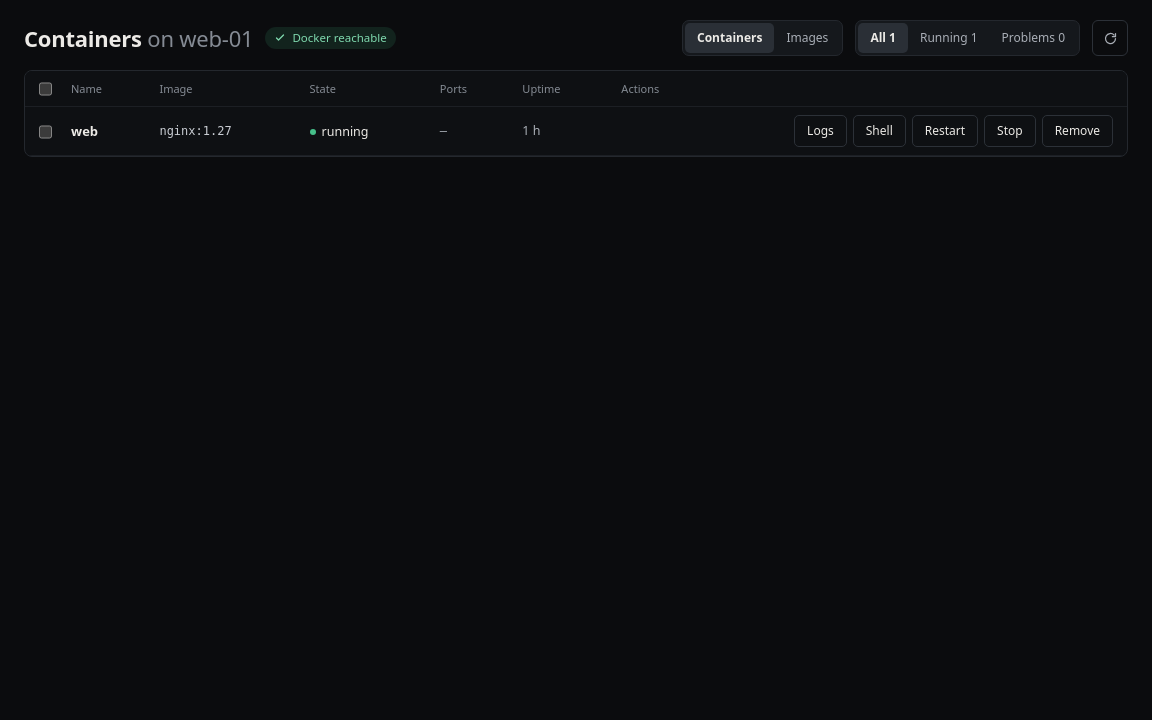
Test case: Docker images › shows why an image cannot be removed
Expected: the text "Docker reachable" is shown, [266,27,396,49]
Click the button "Images" at (807, 38), box [774,23,840,53]
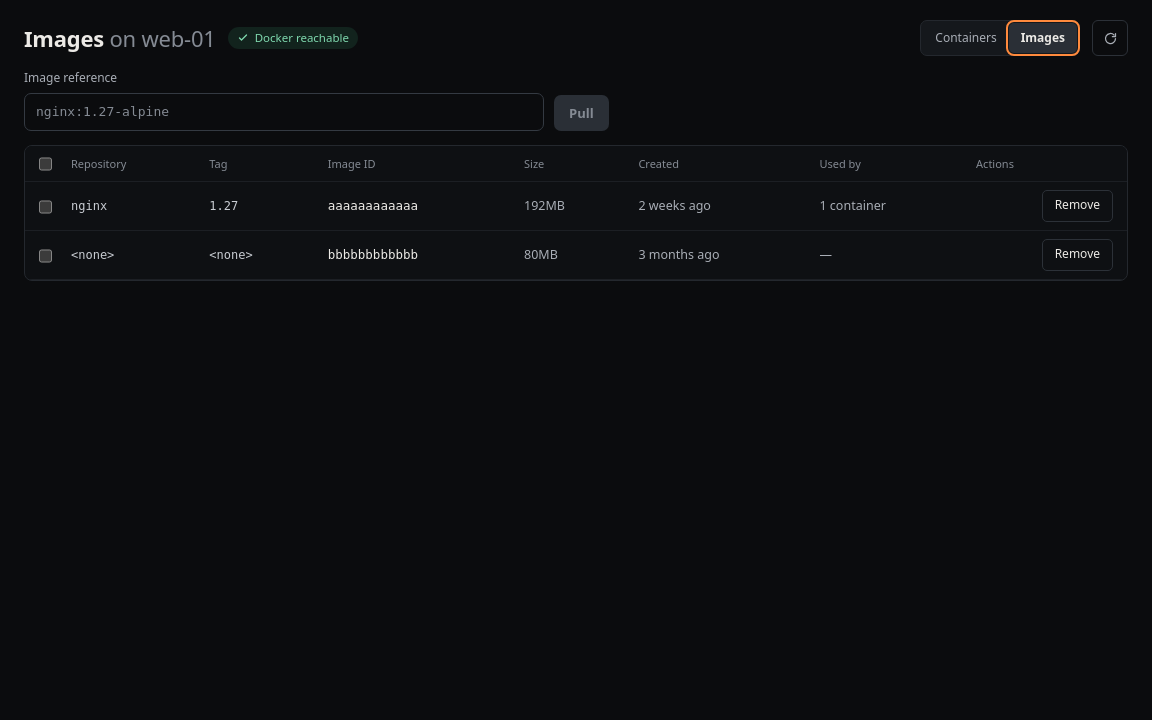
Expected: the text "192MB" is shown, [510,181,624,230]
Click the button with aria-label "Remove image nginx:1.27" at (1077, 206), box [1042,190,1113,222]
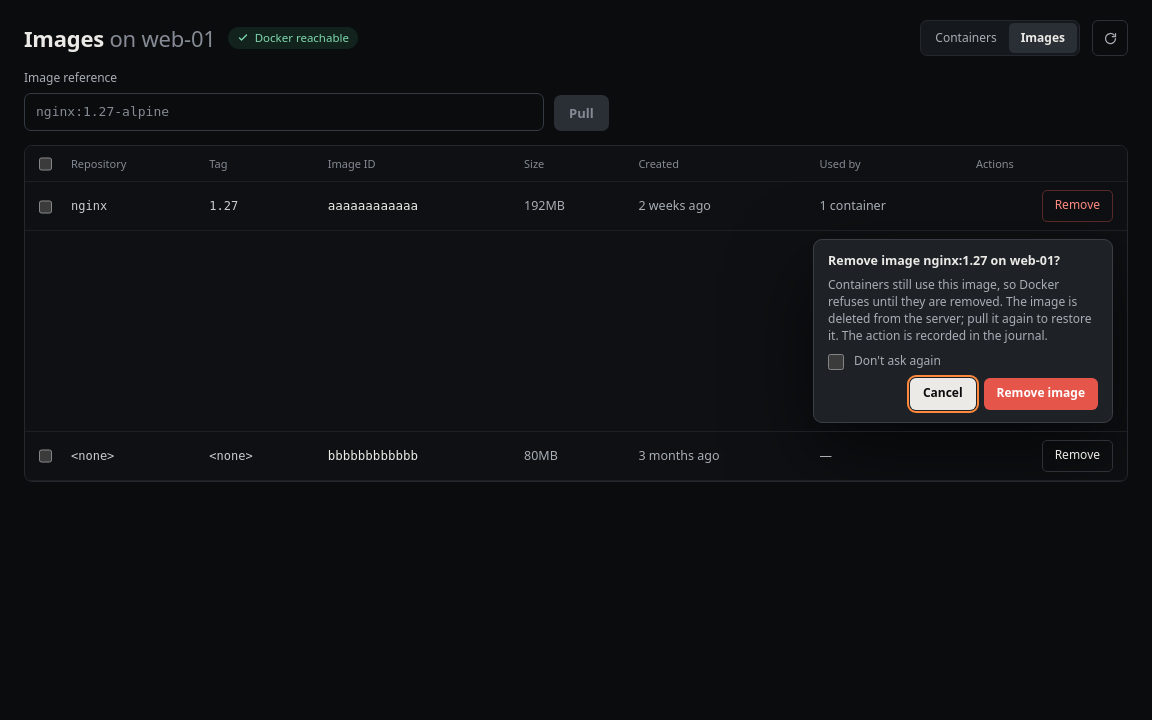
Click the button "Remove image" at (1041, 394), box [984,378,1098,410]
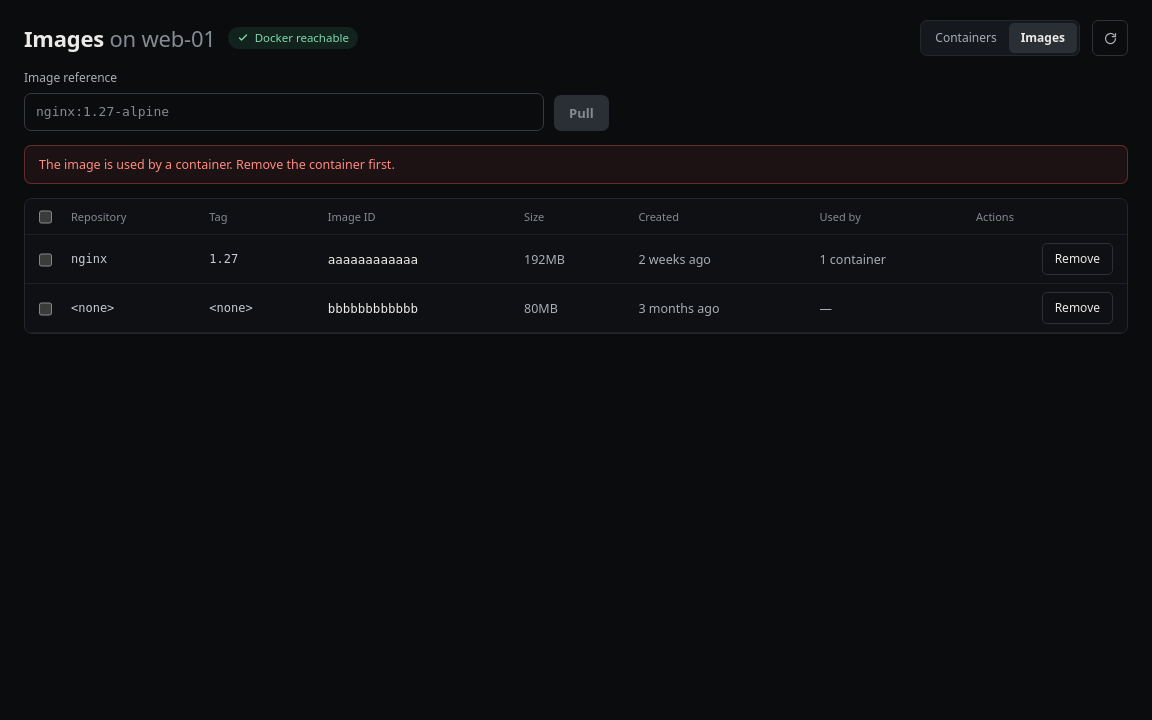
Expected: the message shows "The image is used by a container.", [39,156,395,173]
